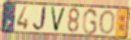4: (16, 6, 30, 32)
8: (67, 7, 80, 35)
G: (82, 7, 99, 36)
J: (32, 6, 49, 32)
O: (99, 9, 116, 36)
V: (49, 6, 67, 34)
